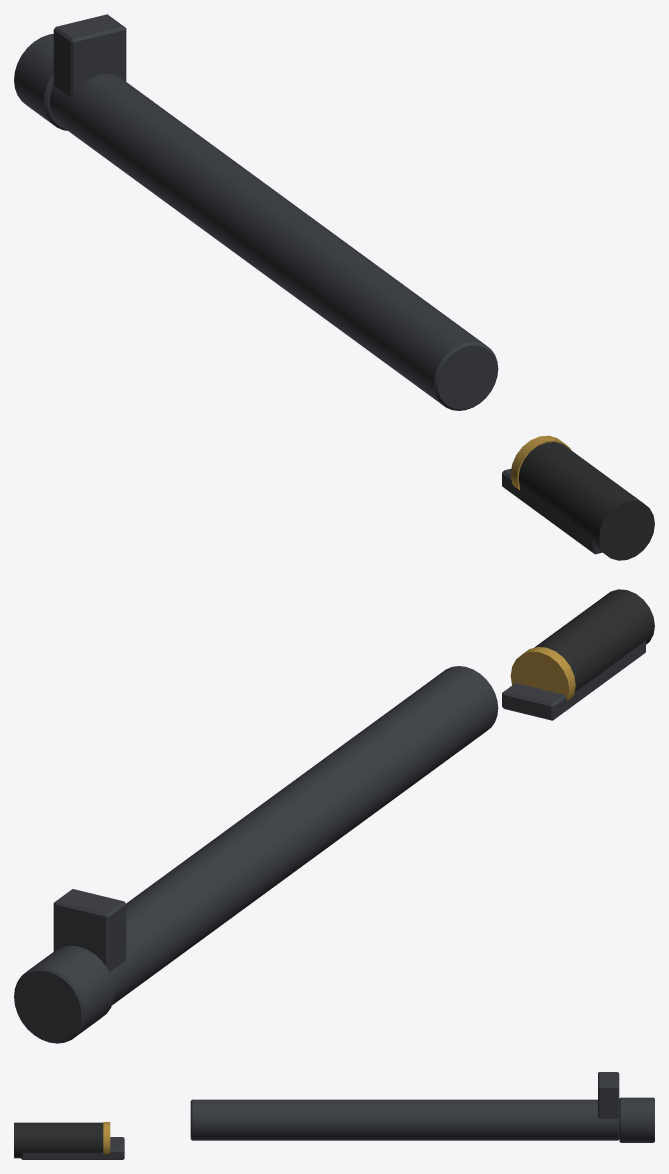
File: mod_mule_standard_tube.glb
The picture shows the model from 3 angles, top to bottom: view 1: azimuth 30°, elevation 25°; view 2: azimuth 150°, elevation 25°; view 3: azimuth 270°, elevation 25°; orthographic projection. The views are drawn at different scales.
Visible parts, largest first — view 1: MagTube, MagTubeShell; view 2: MagTube, MagTubeShell; view 3: MagTube, MagTubeShell.
Part boxes in pixels (x1,y1,x2,y2): MagTube: [14, 14, 602, 554]; MagTubeShell: [510, 435, 654, 560]; MagTube: [14, 640, 645, 1043]; MagTubeShell: [510, 589, 654, 701]; MagTube: [21, 1072, 654, 1159]; MagTubeShell: [14, 1122, 110, 1158].
Size of the model in its own units: 0.0254 by 0.0485 by 0.359.
